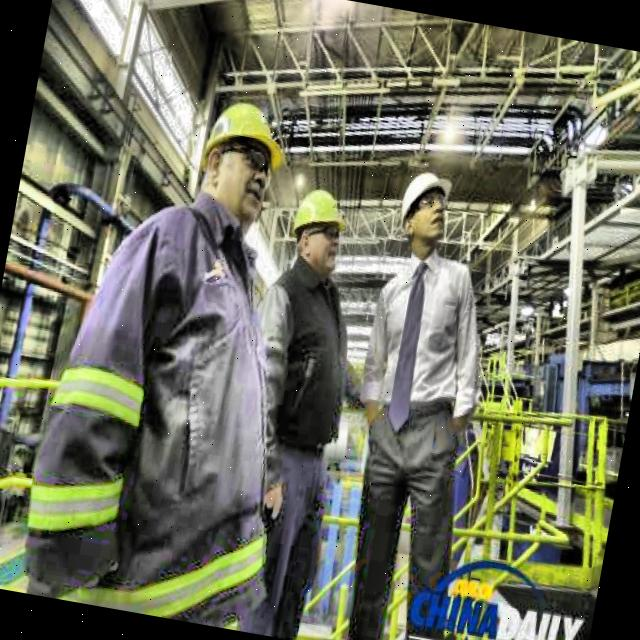helmet: (180, 70, 302, 251), (276, 177, 358, 282), (386, 156, 464, 266)
